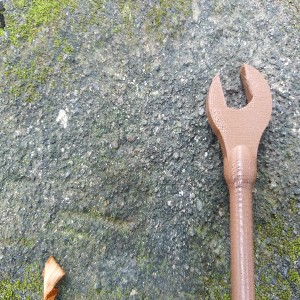spanner: (206, 63, 273, 300)
